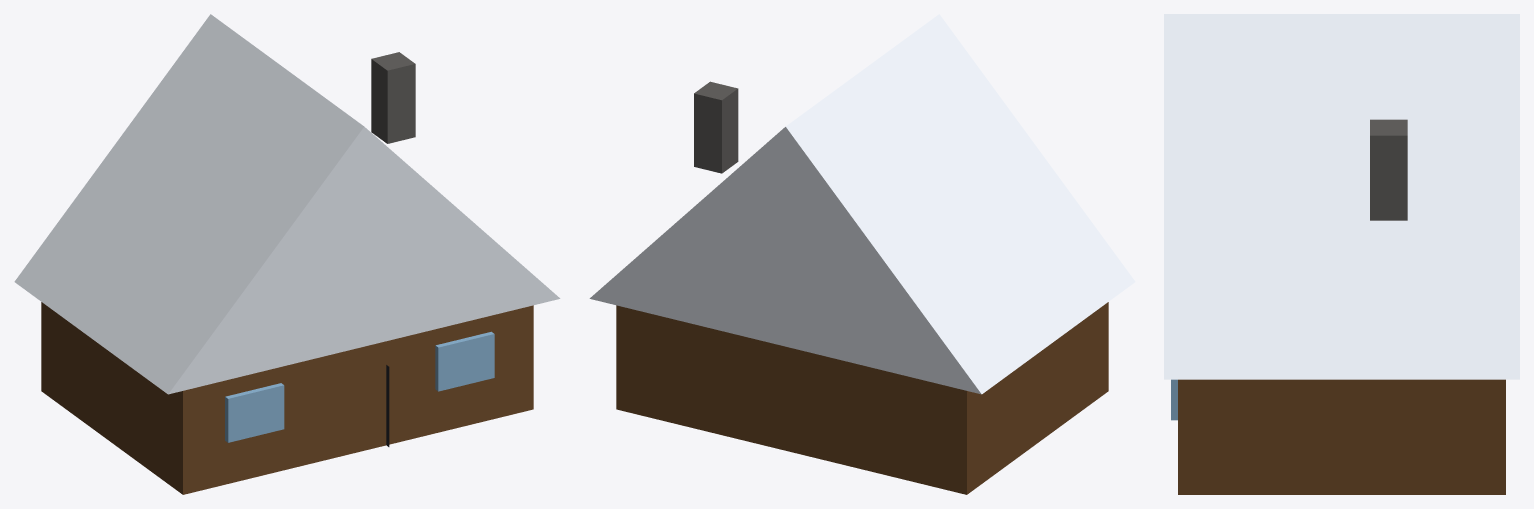
The model's file is refugio_ski.obj.
The picture shows the model from 3 angles, left to right: view 1: azimuth 30°, elevation 25°; view 2: azimuth 150°, elevation 25°; view 3: azimuth 270°, elevation 25°; orthographic projection. The views are drawn at different scales.
Visible parts, largest first — view 1: refugio_ski; view 2: refugio_ski; view 3: refugio_ski.
Part boxes in pixels (x1,y1,x2,y2): refugio_ski: [14, 14, 560, 494]; refugio_ski: [589, 14, 1135, 494]; refugio_ski: [1164, 14, 1519, 494].
Size of the model in its own units: 11.2 by 9 by 7.6.
